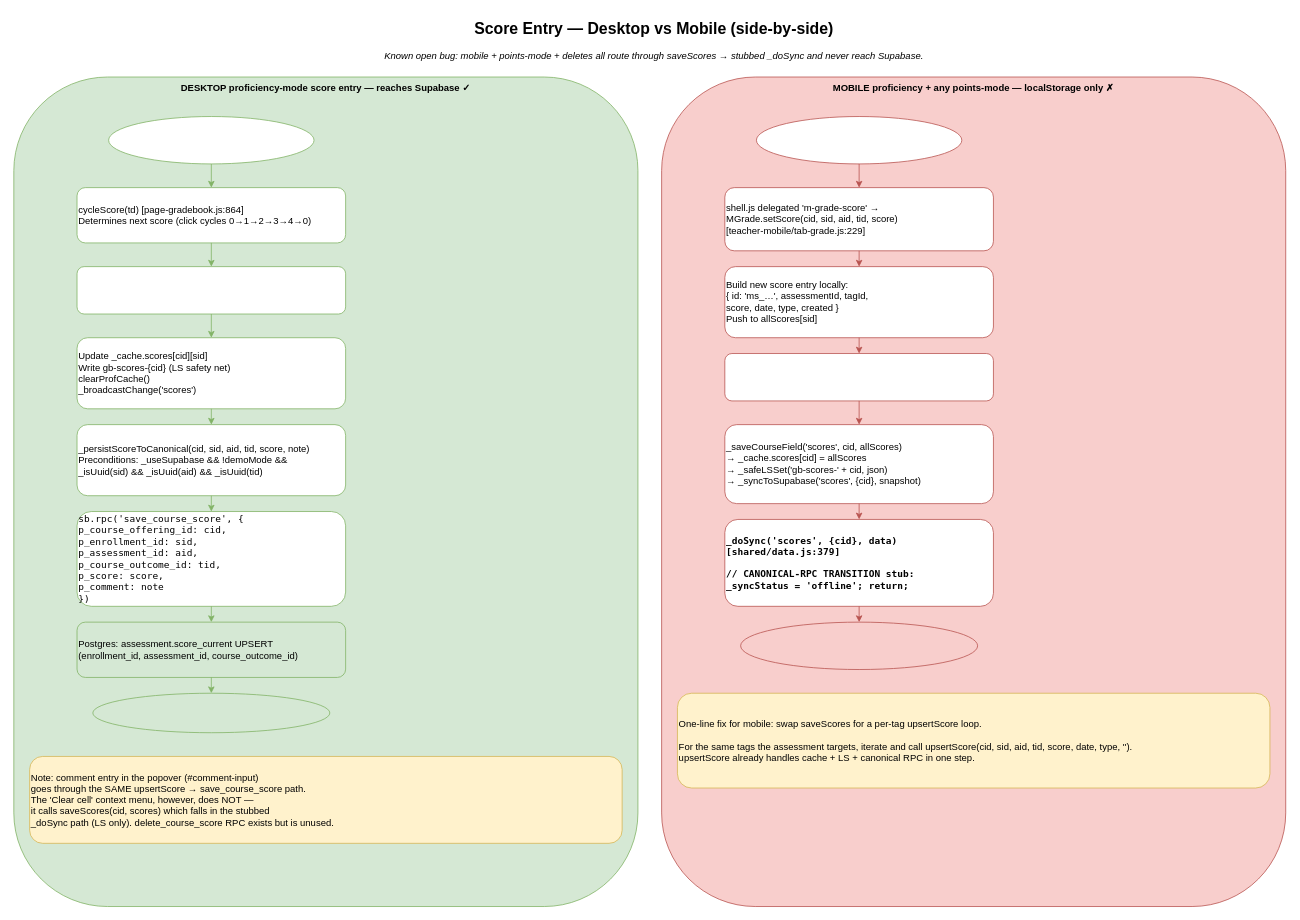
Image size: 1300x920. Some labels were removed from this diagram. Each missing label, with the centre of its shape:
saveScores(cid, allScores) [shared/data.js:4047]: point (858, 377)
Teacher clicks gradebook cell (proficiency 1-4): point (211, 140)
Teacher taps score button (1-4) on mobile Grade tab: point (859, 140)
upsertScore(cid, sid, aid, tid, next, date, type, note) [shared/data.js:2688]: point (211, 290)
✓ Persisted. Survives sign-out / cross-device.: point (211, 712)
✗ Score lives only in localStorage. Wiped on sign-out. Never visible on desktop.: point (859, 645)
